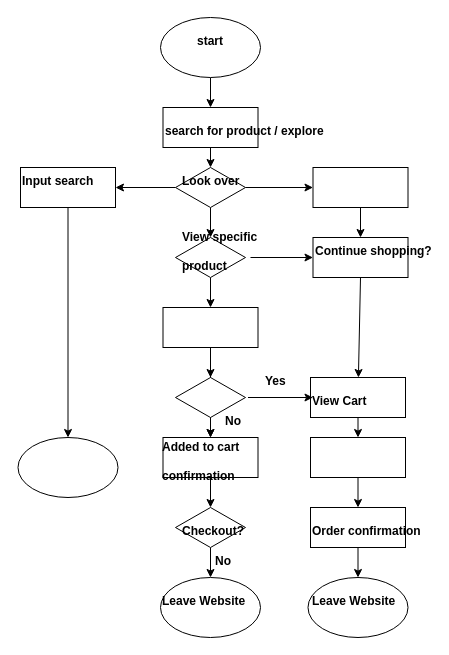
This 449x655 diagram has some shape labels left out. The shapes that lost their labels are listed below. From the top down, each one's centre as x and y in pixels, then its label:
At point 360,187: "Look over products".
At point 210,327: "Added to cart configure".
At point 210,397: "Add to Cart>".
At point 67,467: "End".
At point 358,457: "View Payment".
